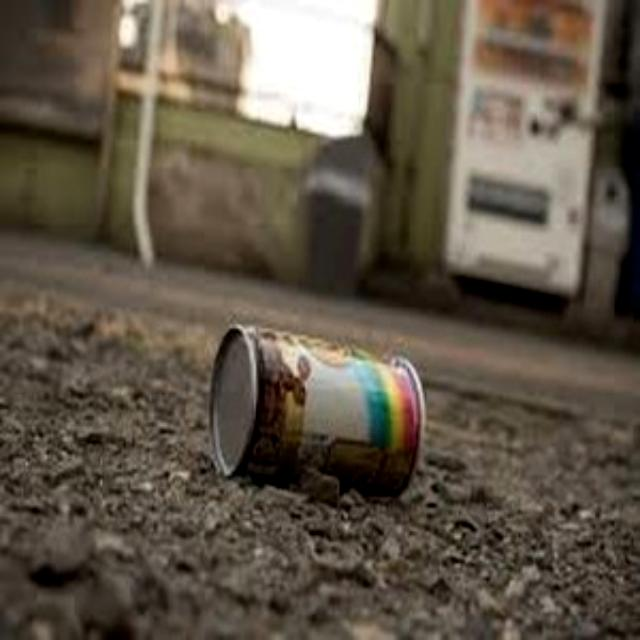Metal: (206, 316, 444, 506)
